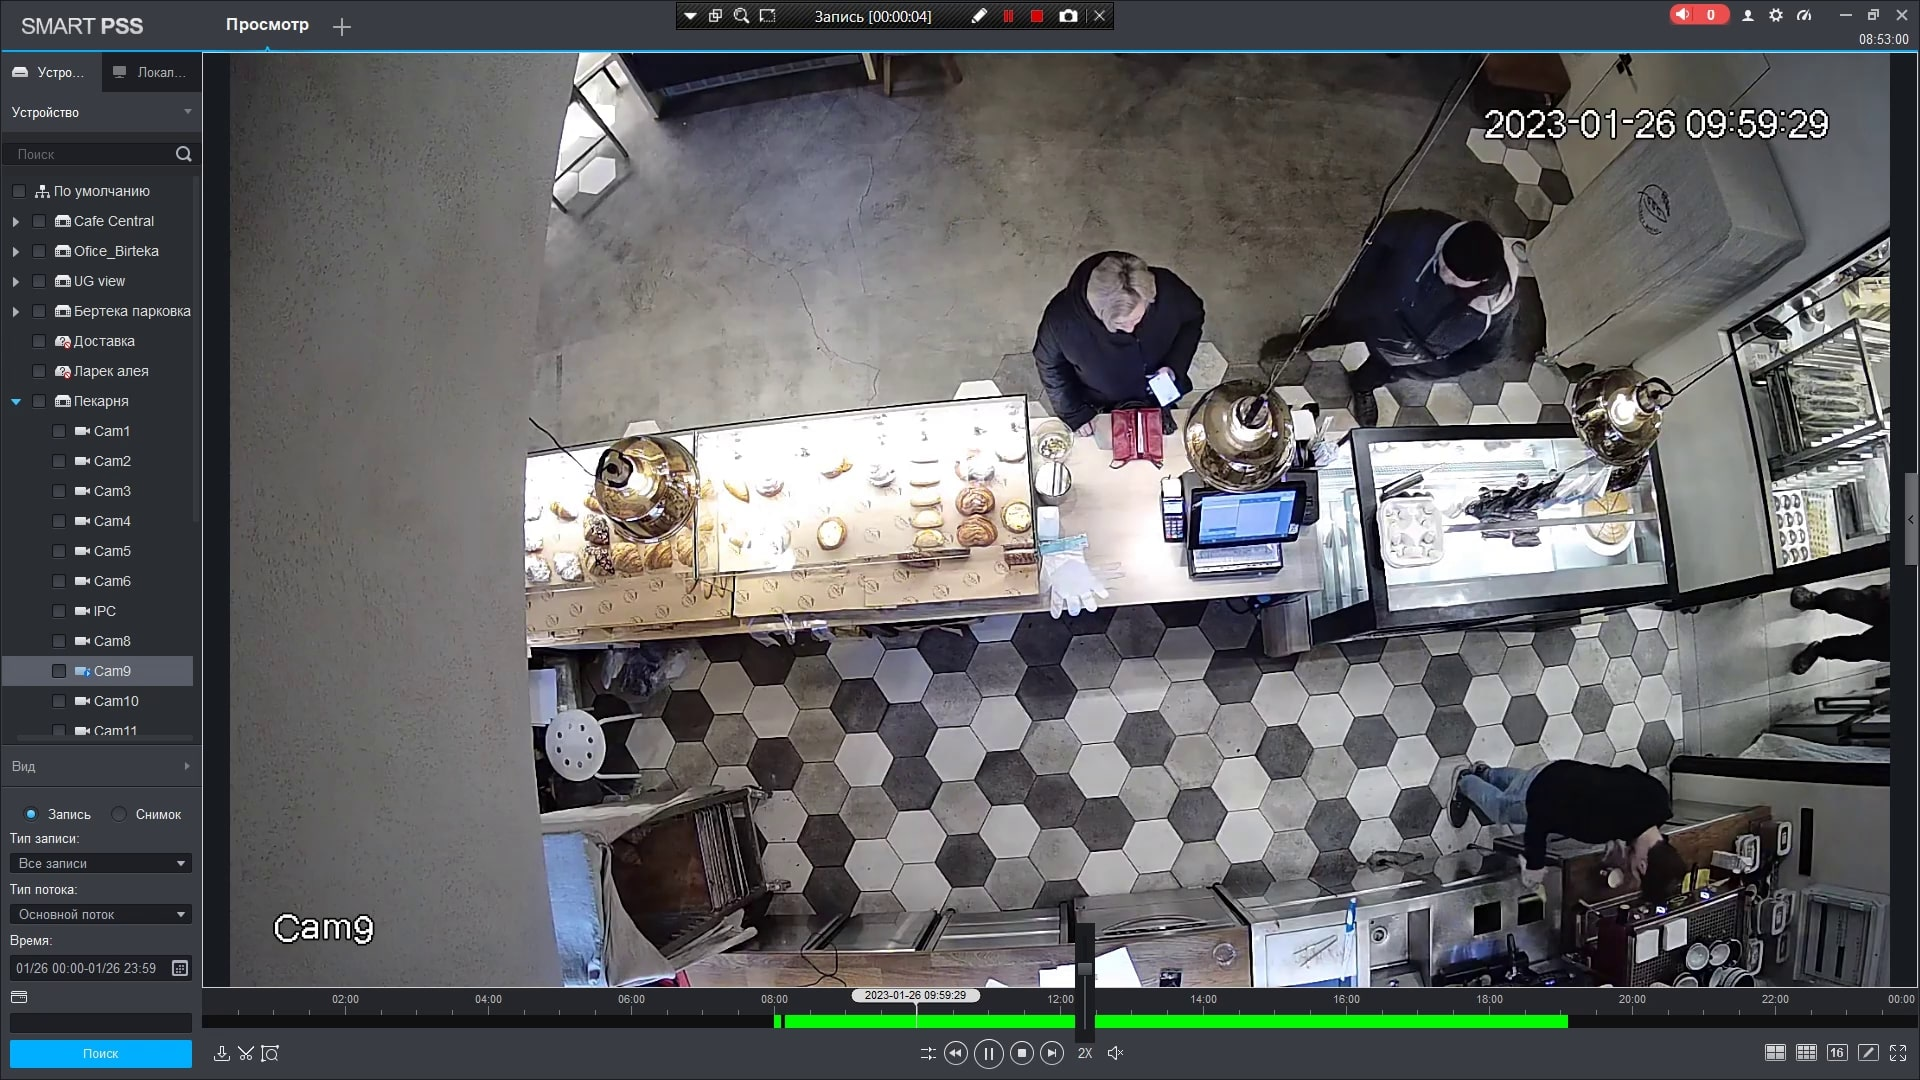barcounter: (539, 436, 1688, 633)
person: (1273, 199, 1537, 411), (1034, 253, 1208, 450)
